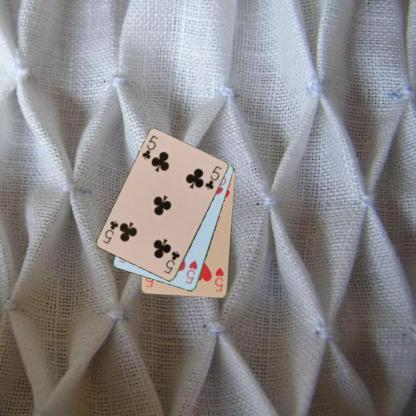5c: (161, 248, 182, 276), (140, 133, 160, 161)
5h: (182, 258, 198, 285), (213, 265, 225, 293)
